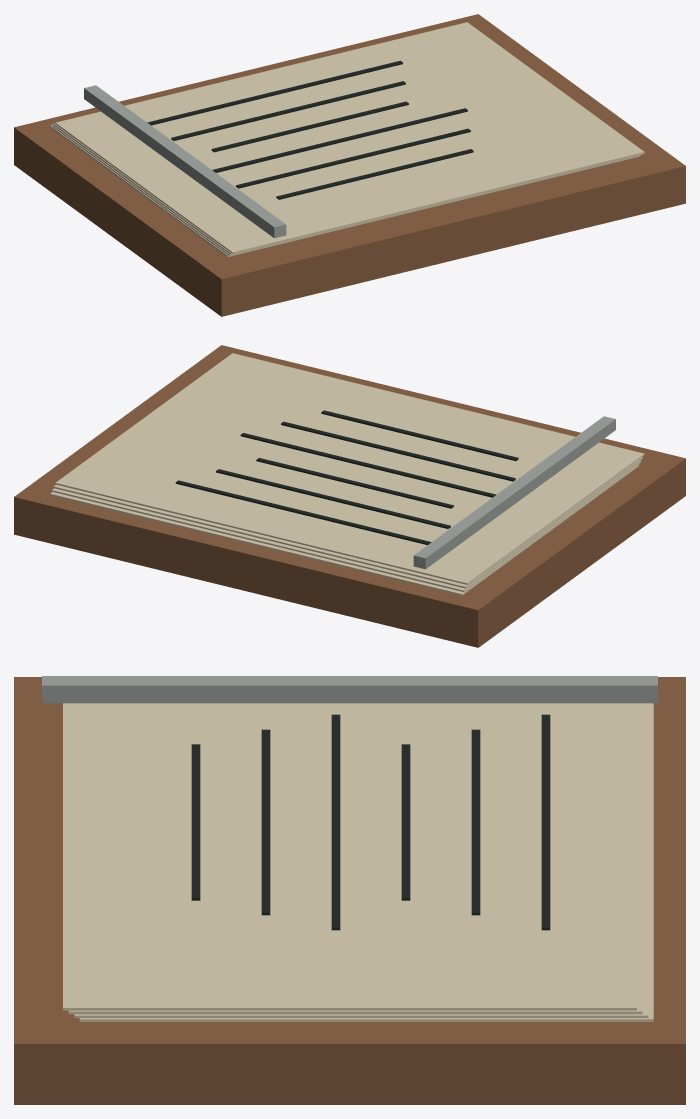
File: EvidenceFolder.glb
The picture shows the model from 3 angles, top to bottom: view 1: azimuth 30°, elevation 25°; view 2: azimuth 150°, elevation 25°; view 3: azimuth 270°, elevation 25°; orthographic projection. The views are drawn at different scales.
Parts seen in each view (by area): view 1: EvidenceFolder; view 2: EvidenceFolder; view 3: EvidenceFolder.
Boxes of the visible parts, x1,y1,x2,y2 form: EvidenceFolder: [14, 14, 685, 316]; EvidenceFolder: [14, 345, 685, 647]; EvidenceFolder: [14, 676, 685, 1104].
Bounding box in the file's own units: 0.31 × 0.0435 × 0.24.
